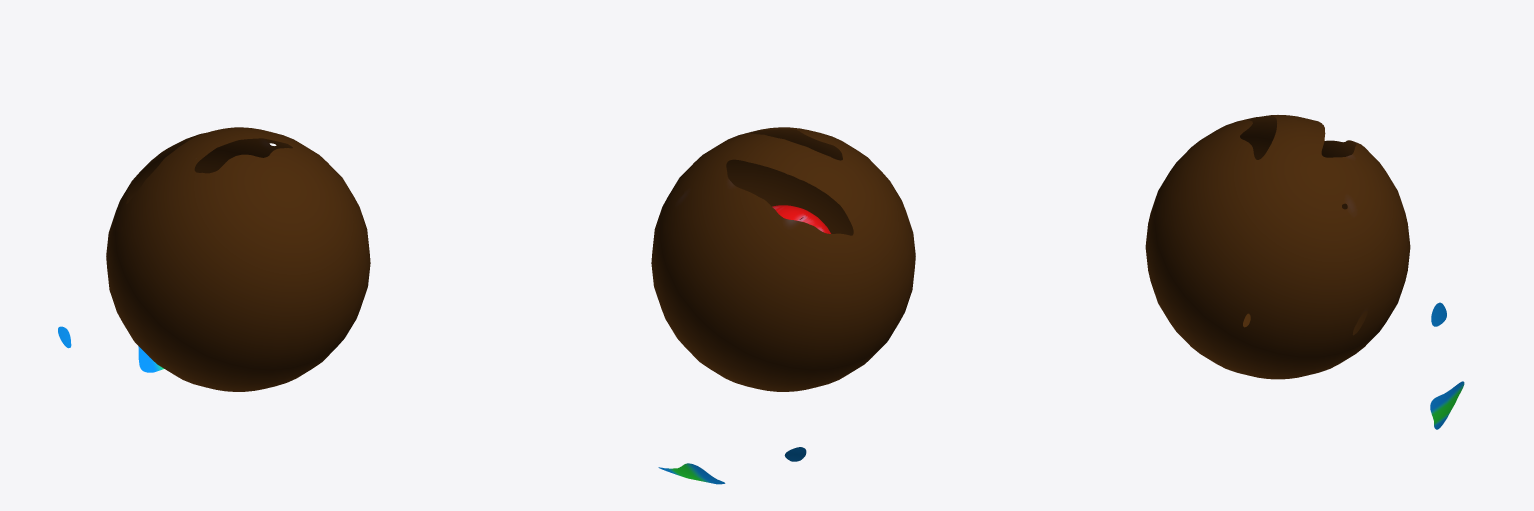
Rendered from Earth-Seed.fbx.
3 renders of one model, left to right at view 1: azimuth 30°, elevation 25°; view 2: azimuth 150°, elevation 25°; view 3: azimuth 270°, elevation 25°, orthographic.
Visible parts, largest first — view 1: Sphere007; view 2: Sphere007; view 3: Sphere007.
Part boxes in pixels (<box>): Sphere007: <box>58,127,370,391</box>; Sphere007: <box>651,127,915,484</box>; Sphere007: <box>1145,115,1464,429</box>.
Bounding box in the file's own units: 10.49 × 10.49 × 10.49.
